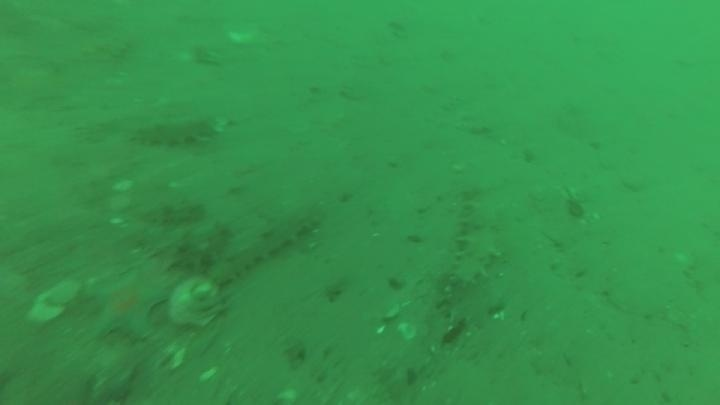holothurian: (208, 202, 323, 288), (134, 217, 236, 275), (448, 186, 502, 288), (73, 337, 143, 405), (129, 111, 226, 151), (135, 196, 208, 230)
starfish: (86, 269, 170, 343)
